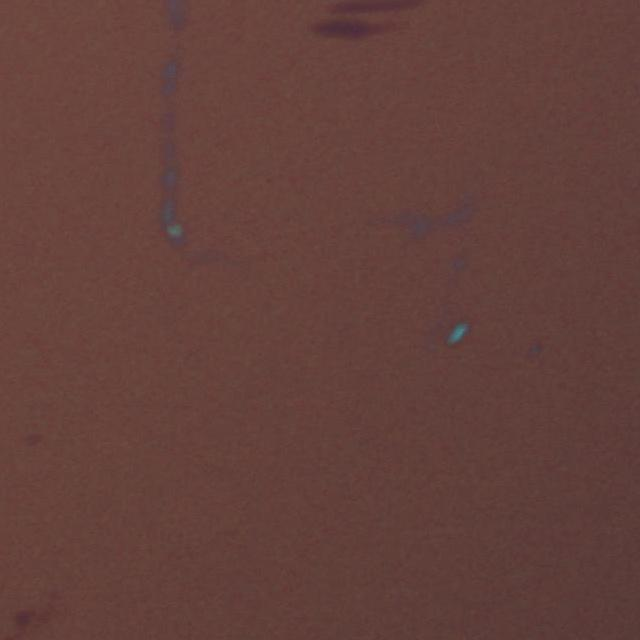monolayer-eWW4: (306, 17, 396, 40), (324, 0, 421, 15)
